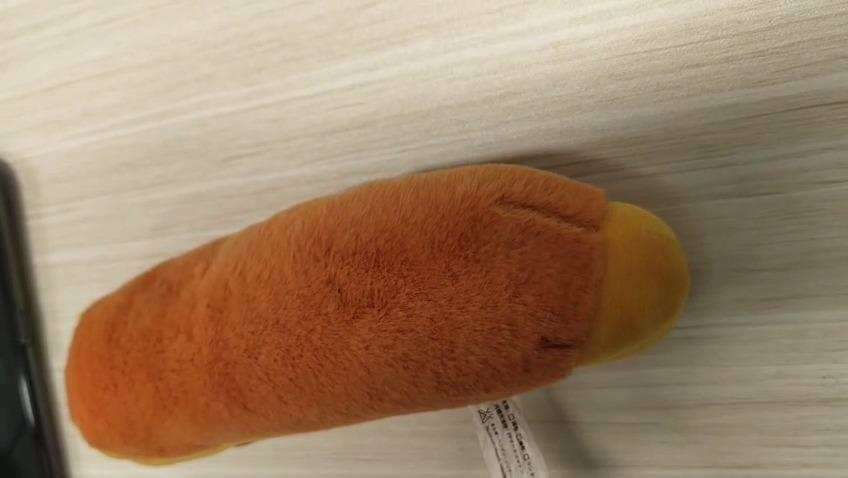hotdog: (68, 161, 692, 465)
